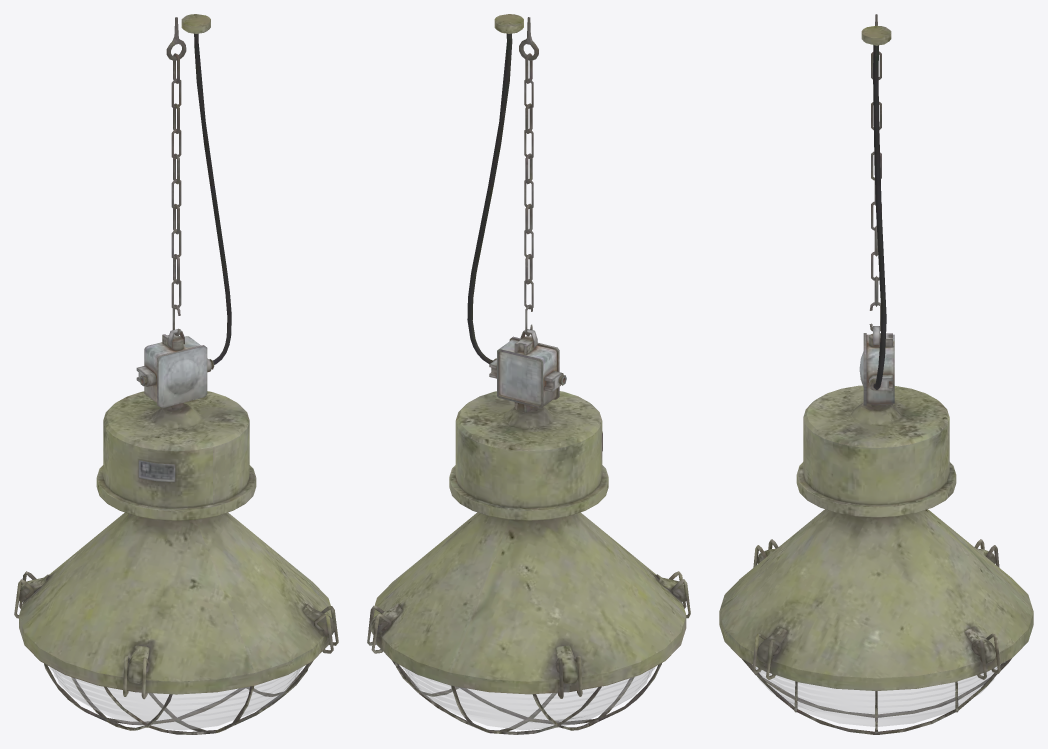
The model's file is hanging_industrial_lamp.glb.
3 renders of one model, left to right at view 1: azimuth 30°, elevation 25°; view 2: azimuth 150°, elevation 25°; view 3: azimuth 270°, elevation 25°, orthographic.
Visible parts, largest first — view 1: hanging_industrial_lamp; view 2: hanging_industrial_lamp; view 3: hanging_industrial_lamp.
Part boxes in pixels (x1,y1,x2,y2): hanging_industrial_lamp: (14,14,338,734); hanging_industrial_lamp: (367,14,690,734); hanging_industrial_lamp: (719,14,1033,734).
Bounding box in the file's own units: 0.5497 × 1.36 × 0.5497.
2 materials, 1 textured.
